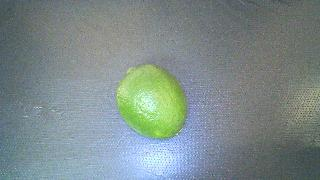EXPORTACION: (116, 65, 187, 139)
